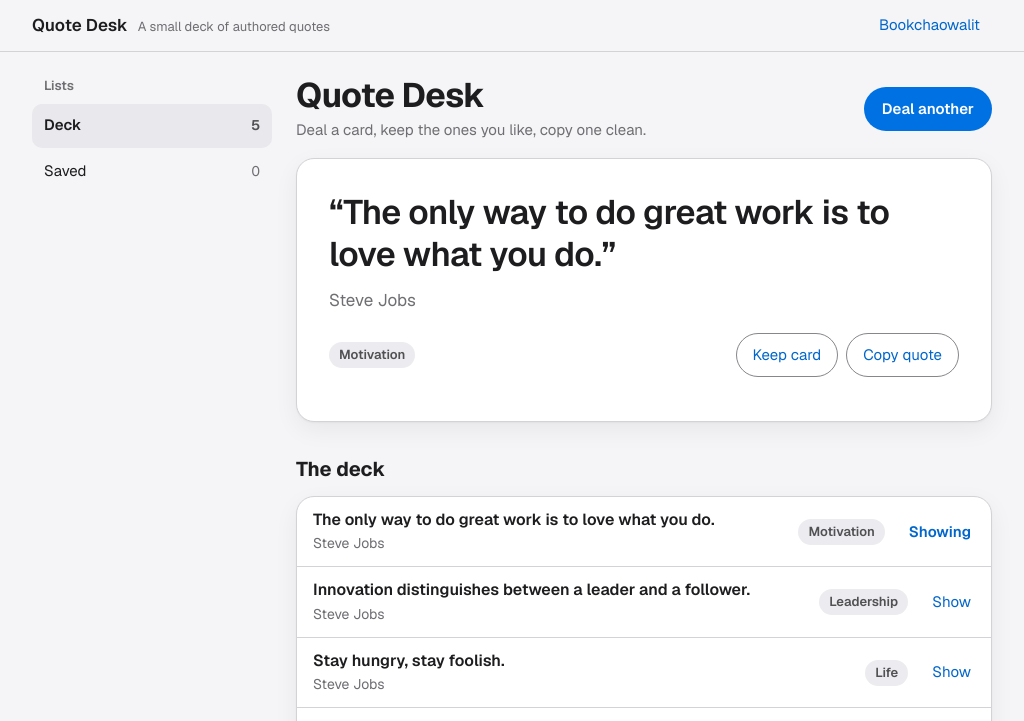
Test: quote desk › deals a different card
Click the button "Deal another": coordinates (928, 109) left=864, top=87, right=992, bottom=131
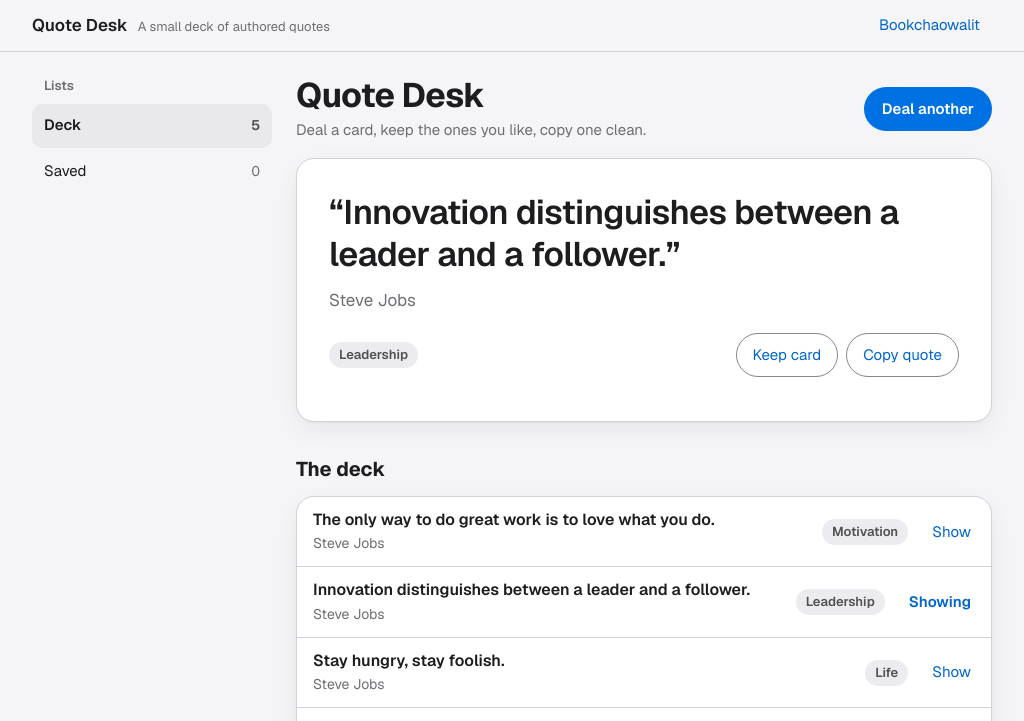
Result: the text "“The only way to do great work is to love what you do.”" is gone
